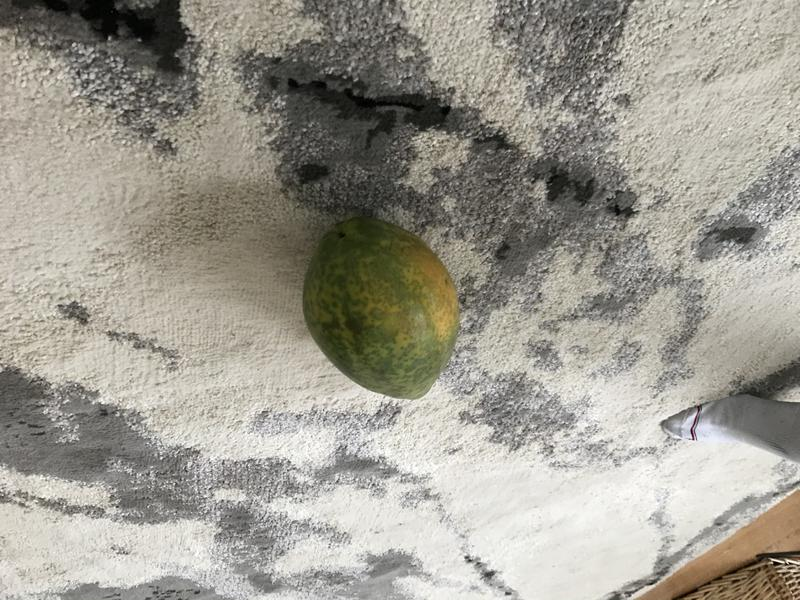papaya: (295, 216, 467, 409)
